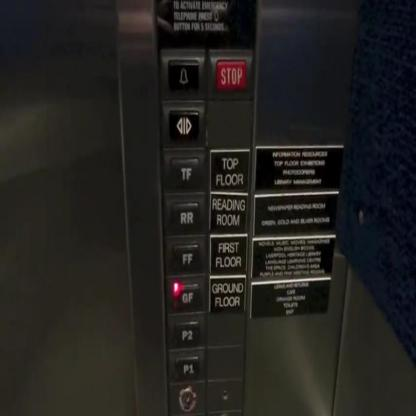FF: (162, 233, 209, 273)
GF: (164, 272, 209, 314)
P1: (166, 346, 207, 383)
P2: (165, 310, 208, 348)
RR: (160, 187, 208, 236)
TF: (159, 146, 208, 192)
alarm: (159, 47, 207, 99)
bt_keyhole: (167, 380, 207, 415)
open: (160, 99, 207, 146)
text_stop: (207, 48, 255, 100)
